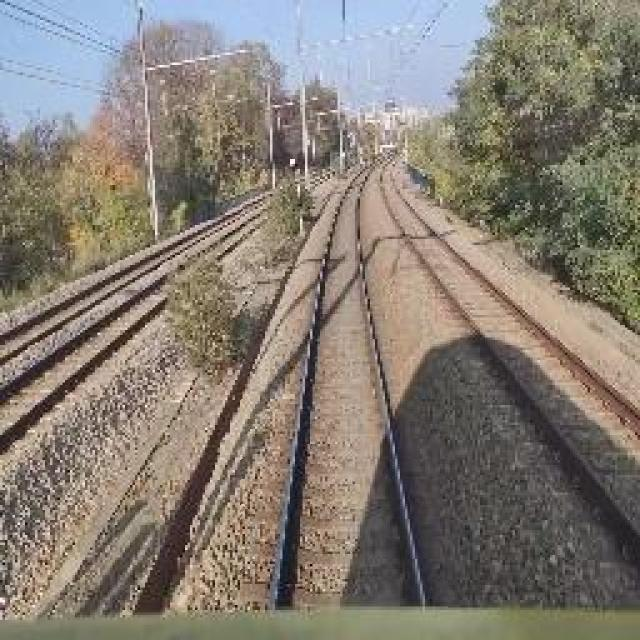rail: (243, 155, 449, 610)
